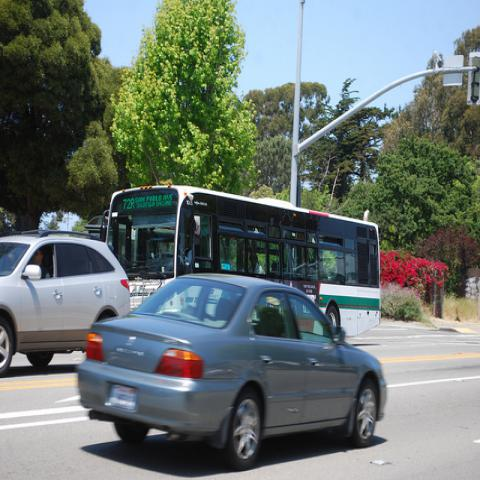bus: (103, 184, 381, 338)
car: (77, 274, 390, 469), (2, 229, 132, 372)
